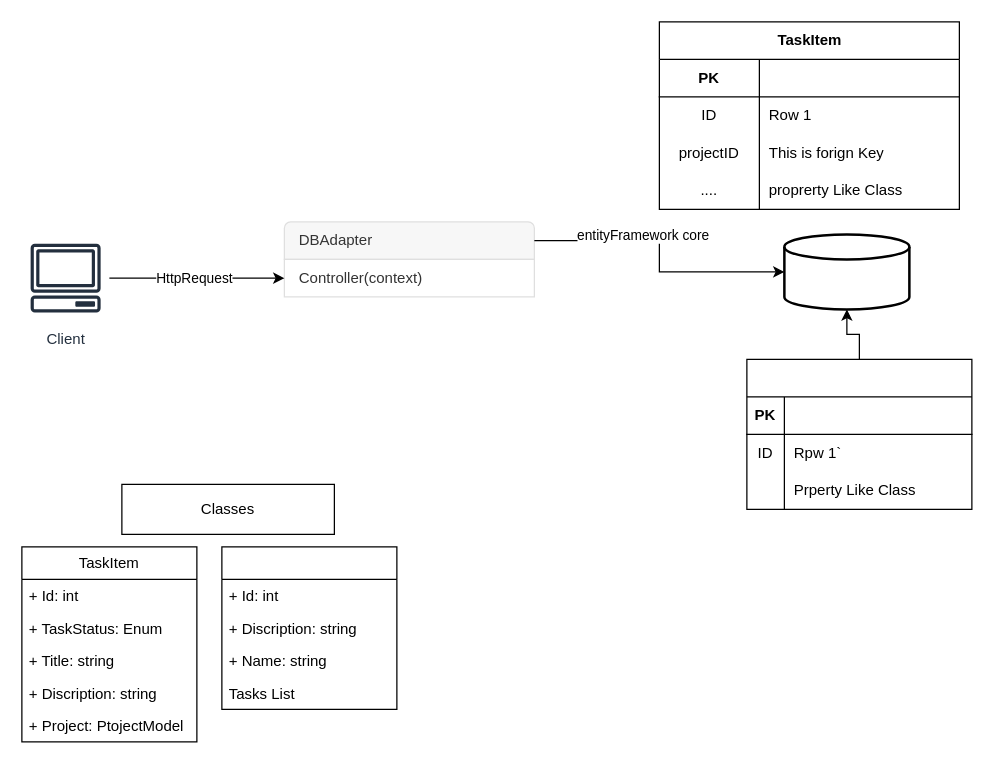
Image size: 994x768. Some labels were removed from this diagram. The box of each missing label's shape, as (x1, y1, x2, y2) in pixels:
ProjecctModel: (221, 546, 397, 709)
Project: (746, 358, 972, 509)
TaskDB: (782, 232, 910, 310)
